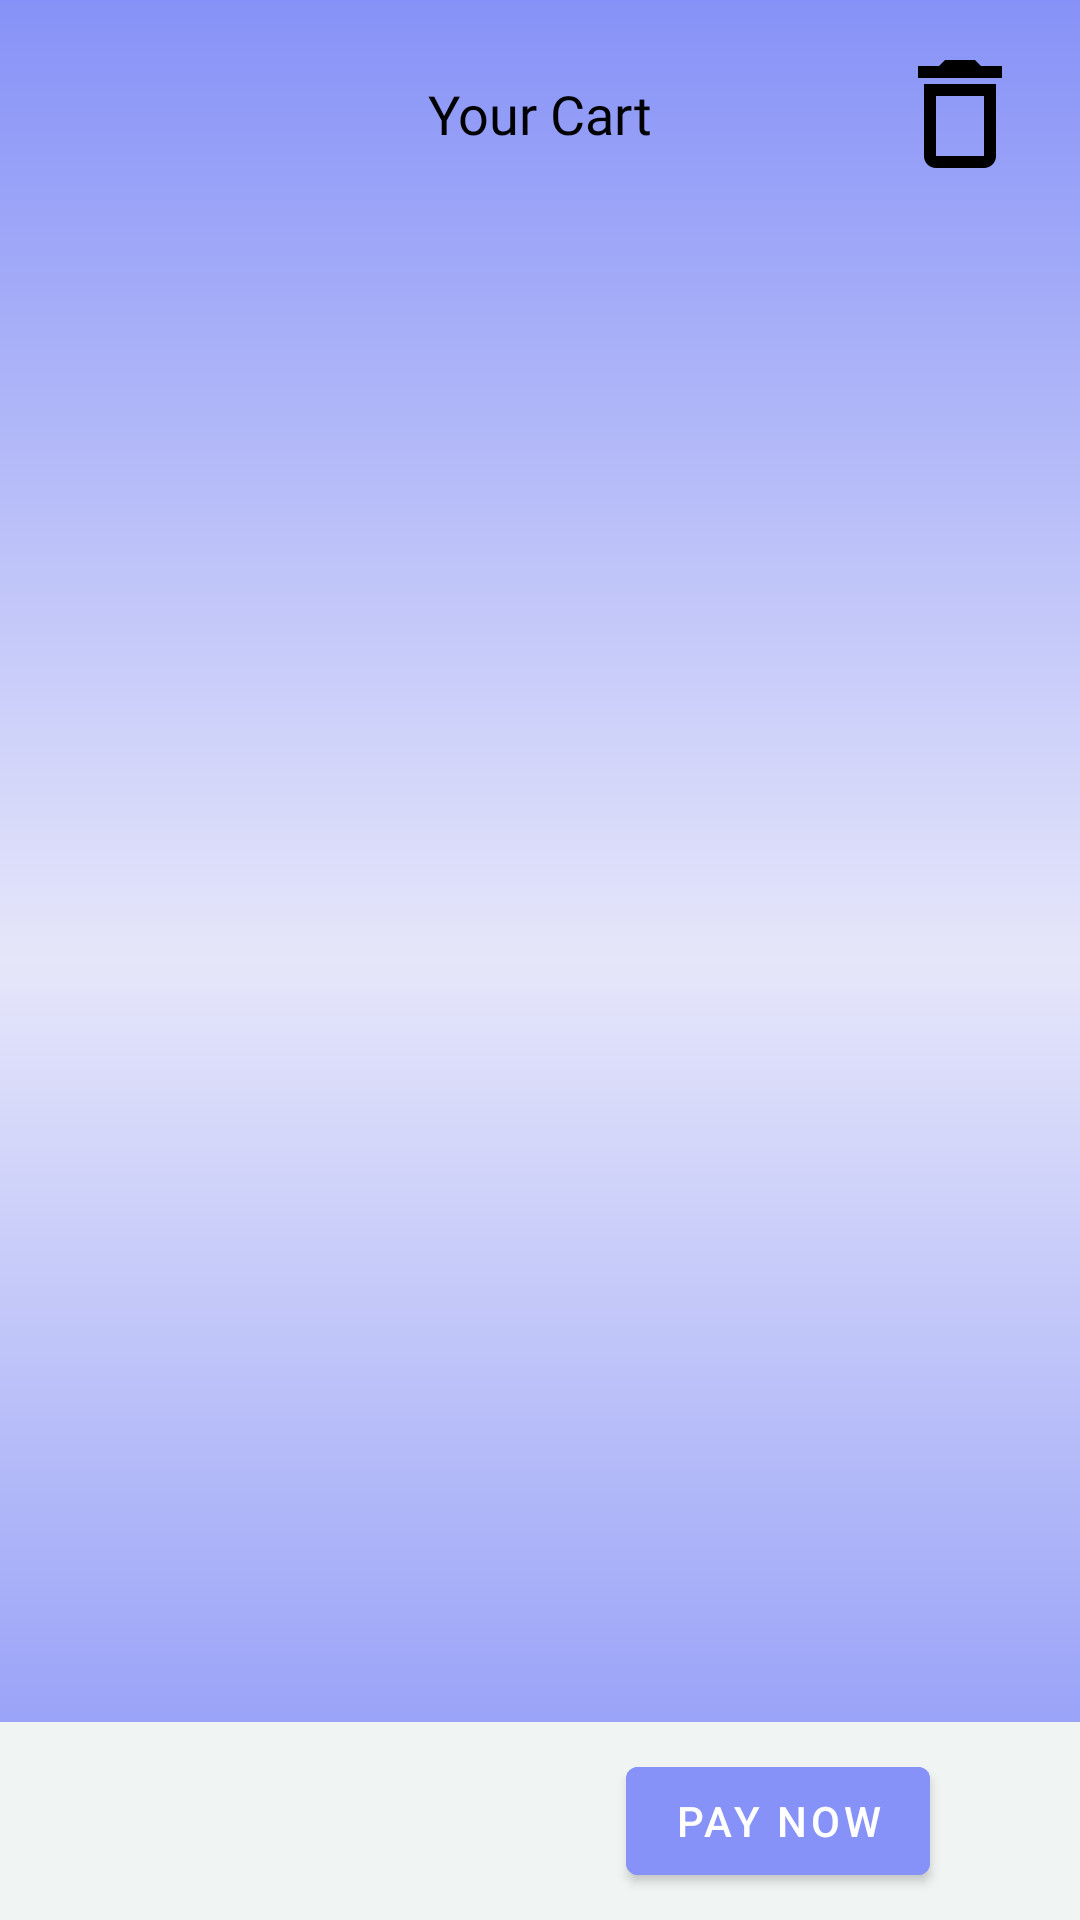

Locate icon controls on the screen. Image size 1080*1920, boxes as bbox=[x1, y1, x2, y2].
delete: bbox=[918, 60, 1002, 168]
